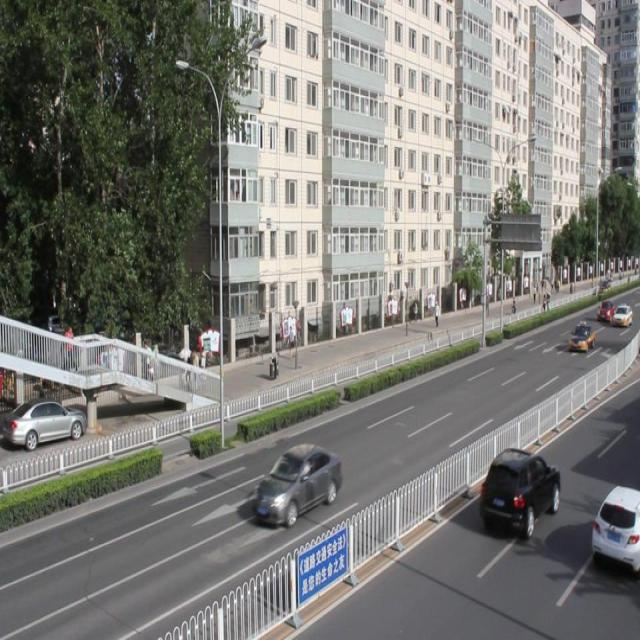car: (479, 445, 560, 534), (255, 442, 340, 524), (588, 483, 640, 568), (567, 321, 594, 351)
